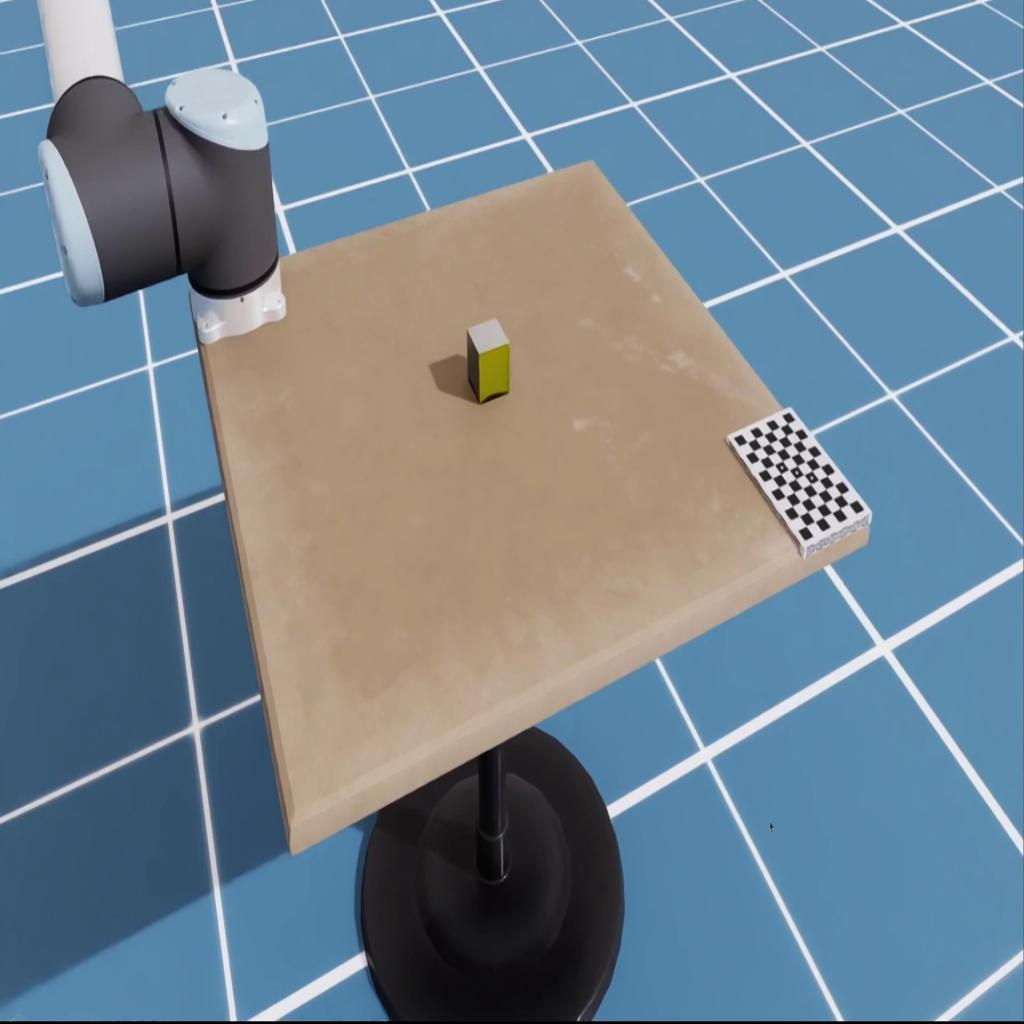Cube: (465, 317, 510, 404)
QR: (725, 404, 871, 559)
Robot: (37, 0, 286, 344)
Table: (187, 166, 869, 856)
